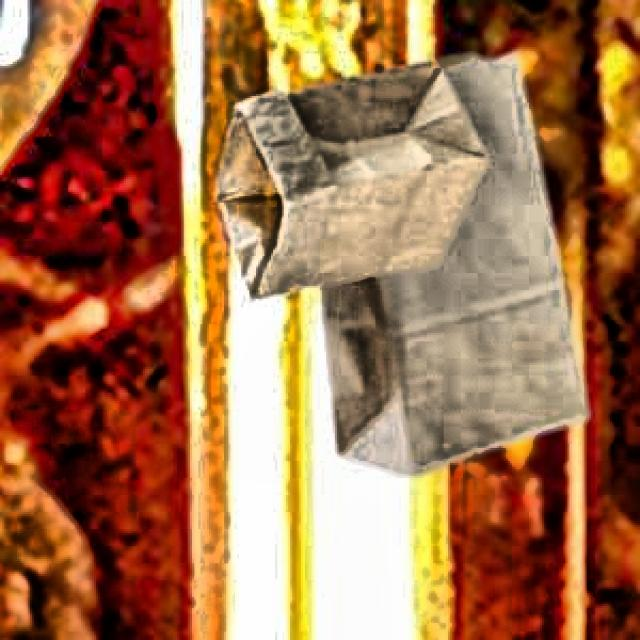Paper-bag: (286, 50, 602, 472), (213, 59, 472, 294)
